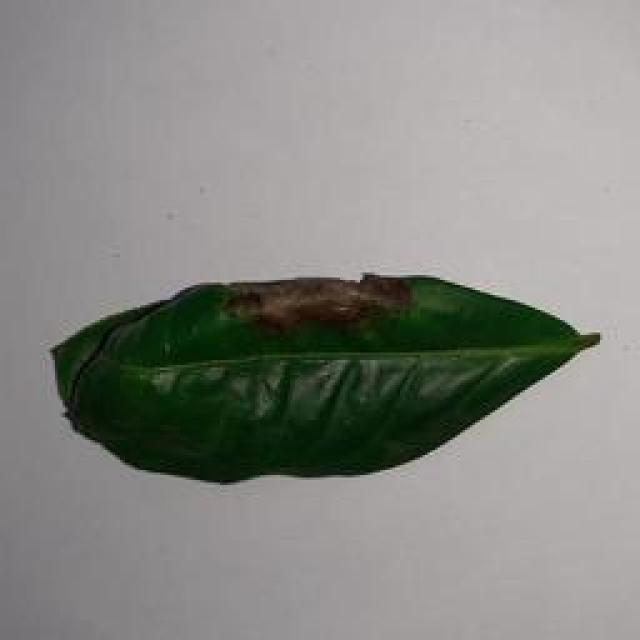Brown Blight: (37, 245, 610, 493)
